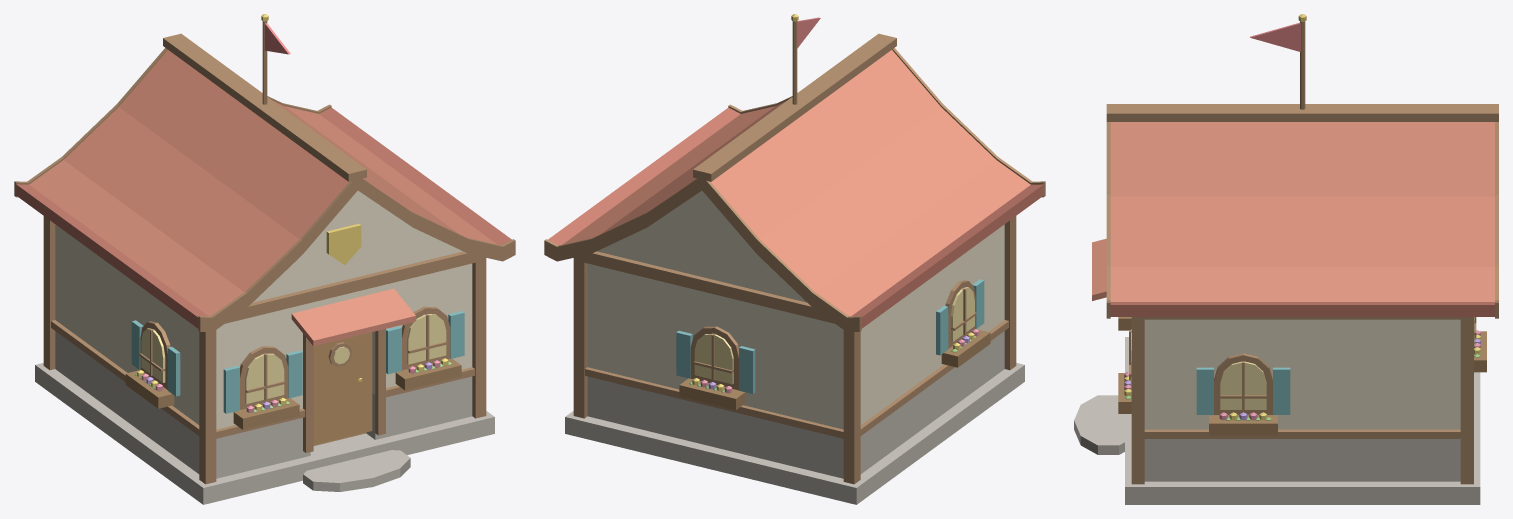
Rendered from hall_cream.glb.
3 views of the same model, side by side, from view 1: azimuth 30°, elevation 25°; view 2: azimuth 150°, elevation 25°; view 3: azimuth 270°, elevation 25° (orthographic). The views are drawn at different scales.
Visible parts, largest first — view 1: Player; view 2: Player; view 3: Player.
Boxes of the visible parts, x1,y1,x2,y2 form: Player: (14, 14, 515, 504); Player: (544, 14, 1045, 504); Player: (1074, 14, 1498, 504).
Bounding box in the file's own units: 5.84 × 6.97 × 6.45.
